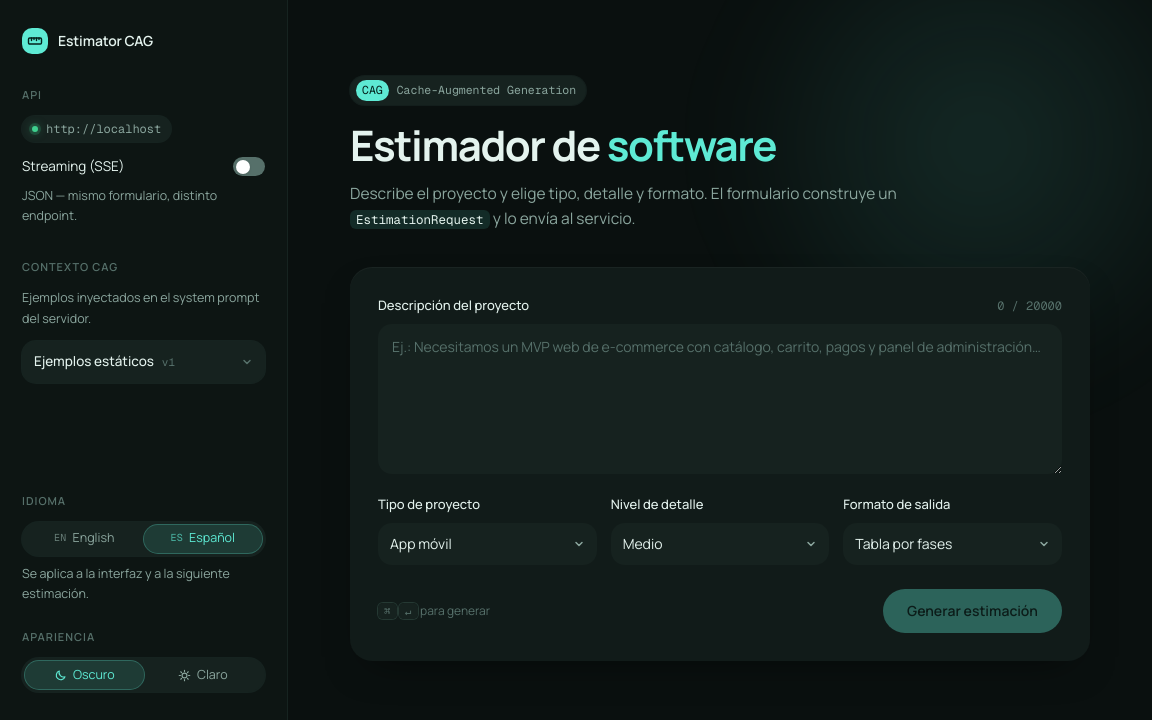
App › uses the JSON endpoint by default and shows the estimation
Step 1. Type "App móvil para reservar clases en un gimnasio." into the text box labelled "Descripción del proyecto 0 / 20000" → {"x": 720, "y": 399}, box x1=378 y1=324 x2=1062 y2=474
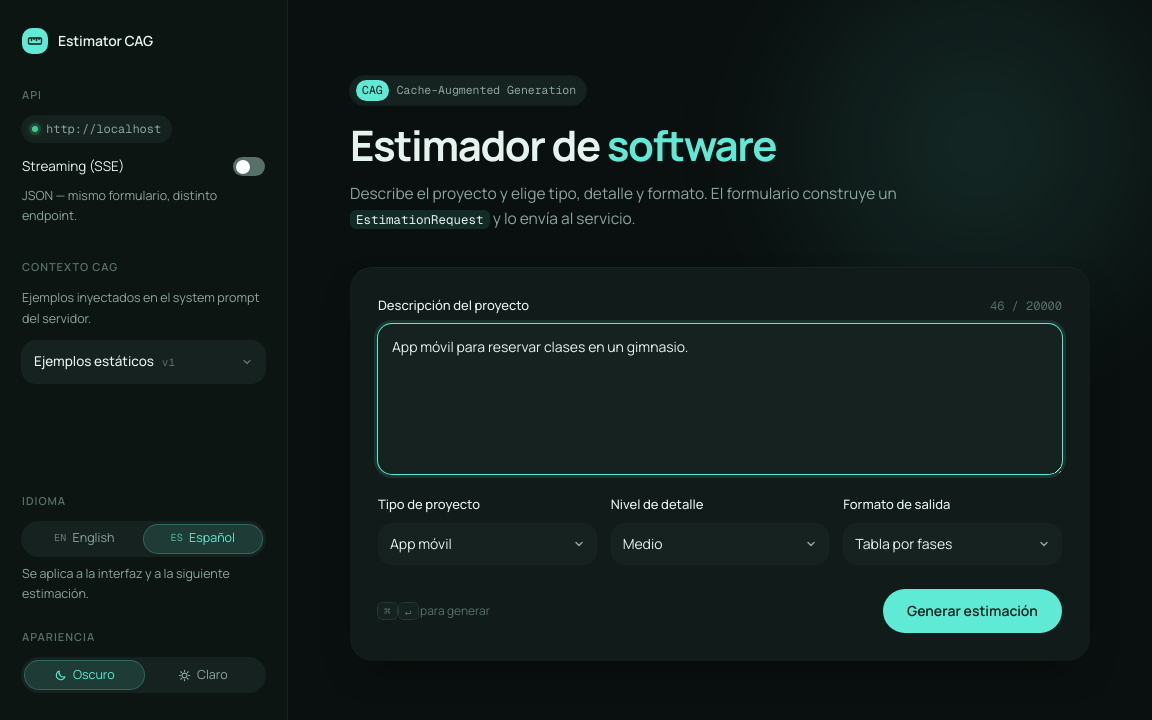
Step 2. Click the button "Generar estimación" → {"x": 973, "y": 611}, box x1=883 y1=589 x2=1062 y2=633
(page scrolled)
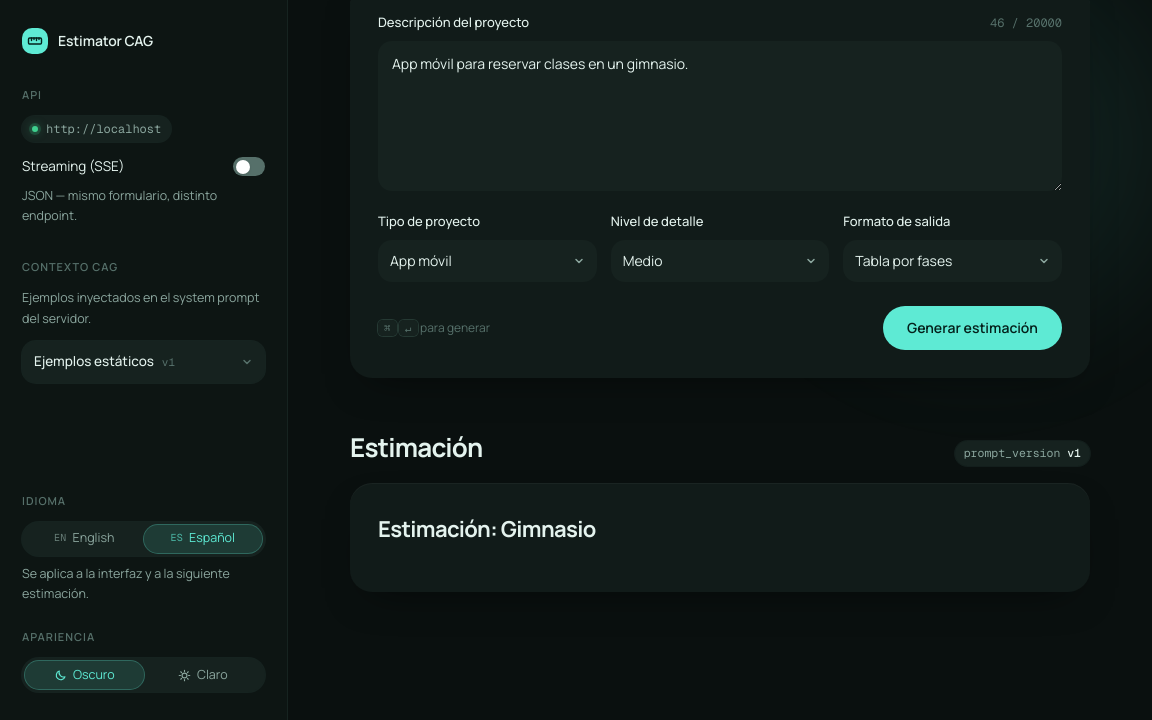
Result: the heading "Estimación: Gimnasio" is shown at x1=378 y1=514 x2=596 y2=544
